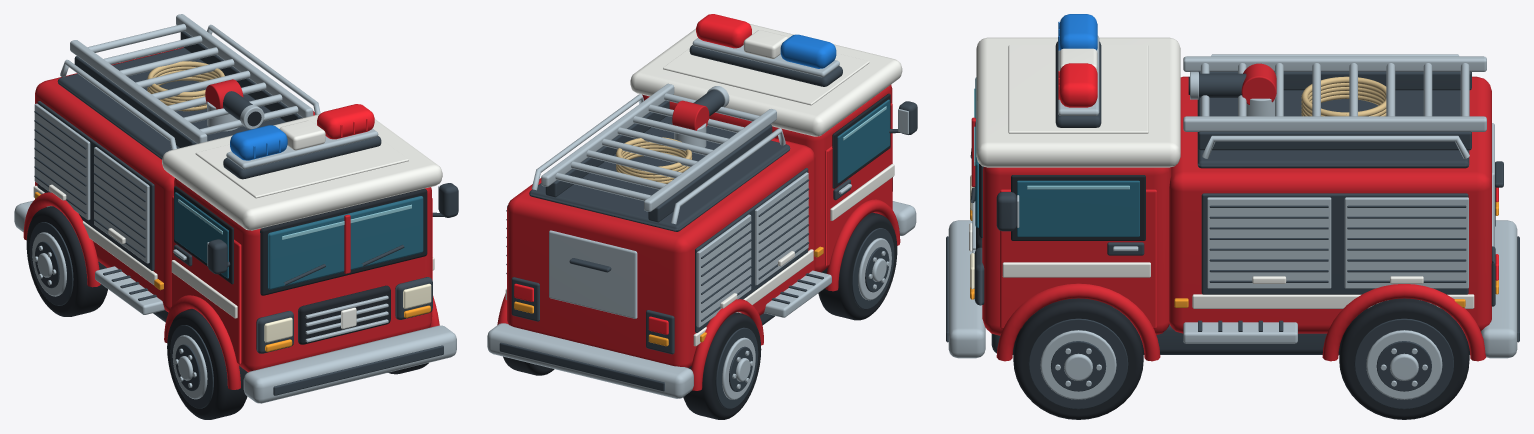
The model's file is firetruck.glb.
3 views of the same model, side by side, from view 1: azimuth 30°, elevation 25°; view 2: azimuth 150°, elevation 25°; view 3: azimuth 270°, elevation 25° (orthographic). The views are drawn at different scales.
Visible parts, largest first — view 1: Detailed fire engine; view 2: Detailed fire engine; view 3: Detailed fire engine.
Part boxes in pixels (x1,y1,x2,y2): Detailed fire engine: (14, 14, 458, 419); Detailed fire engine: (487, 14, 917, 419); Detailed fire engine: (946, 14, 1519, 419).
Bounding box in the file's own units: 1.95 × 2.04 × 3.4.
